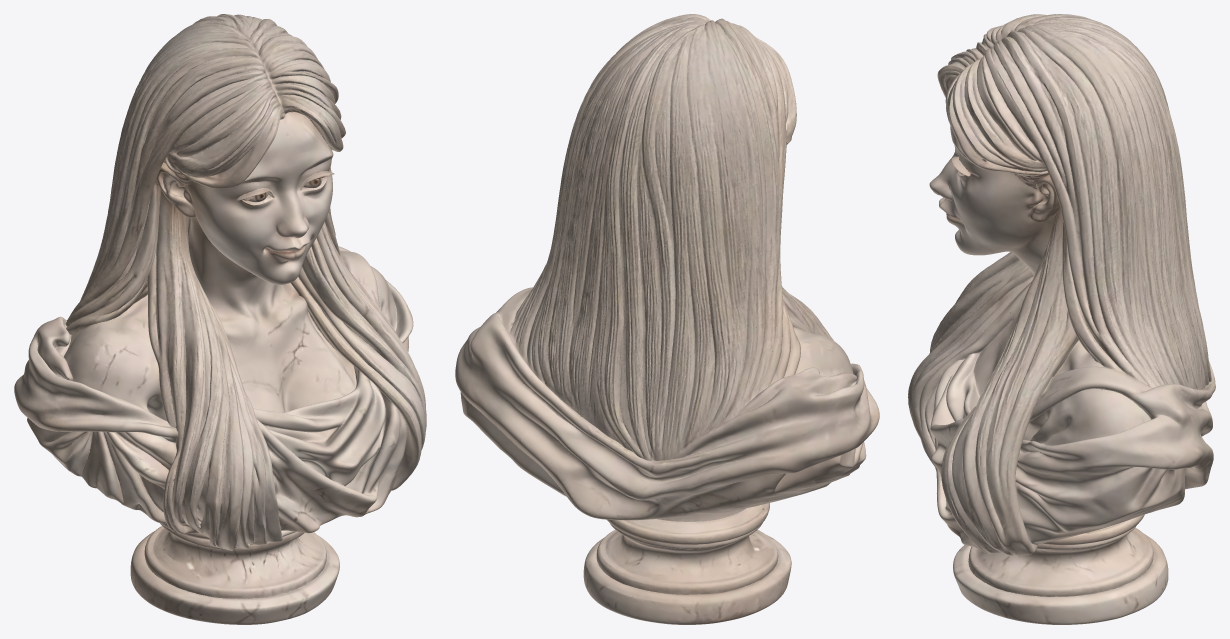
File: 09_박수빈.compressed.glb
The picture shows the model from 3 angles, left to right: view 1: azimuth 30°, elevation 25°; view 2: azimuth 150°, elevation 25°; view 3: azimuth 270°, elevation 25°; orthographic projection.
Visible parts, largest first — view 1: model; view 2: model; view 3: model.
Part boxes in pixels (box(x1,y1,x2,y2)): model: box(14, 14, 426, 624); model: box(455, 14, 879, 624); model: box(908, 14, 1215, 624).
Size of the model in its own units: 1.36 by 1.9 by 0.9394.
Materials: 1 (1 with a texture image).
